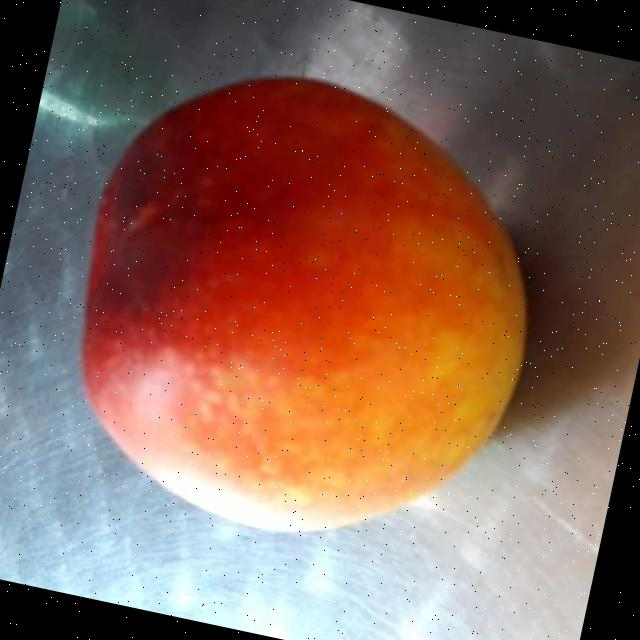peach: (87, 75, 527, 519)
